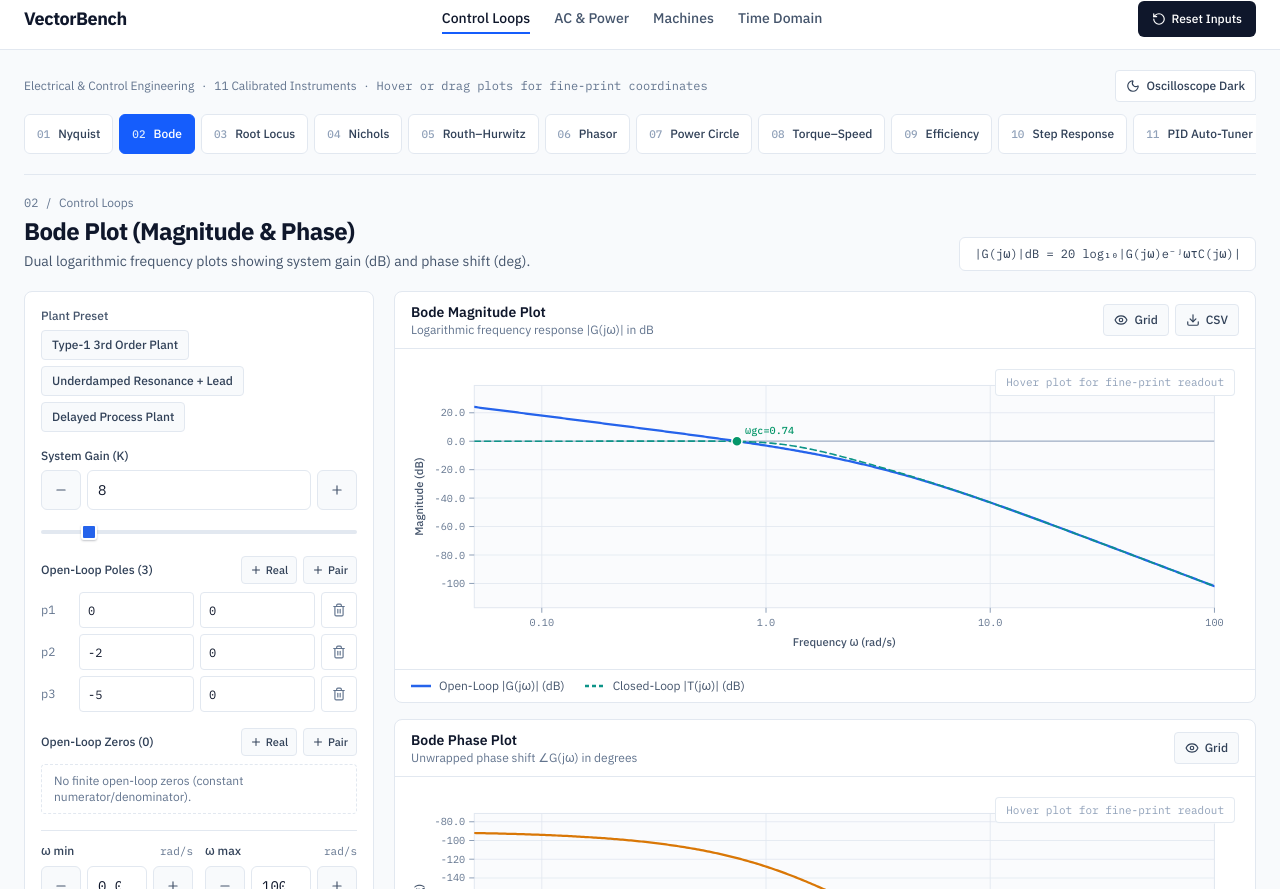
Test case: VectorBench Engineering Workbench Integration › renders all 10 instruments and switches cleanly between them (Blue Pill)
Expected: the link "VectorBench" is shown, x1=24 y1=5 x2=127 y2=33
# Switch to Step Response
Click the tab "10 Step Response" at {"x": 1063, "y": 134}, box x1=998 y1=114 x2=1127 y2=154
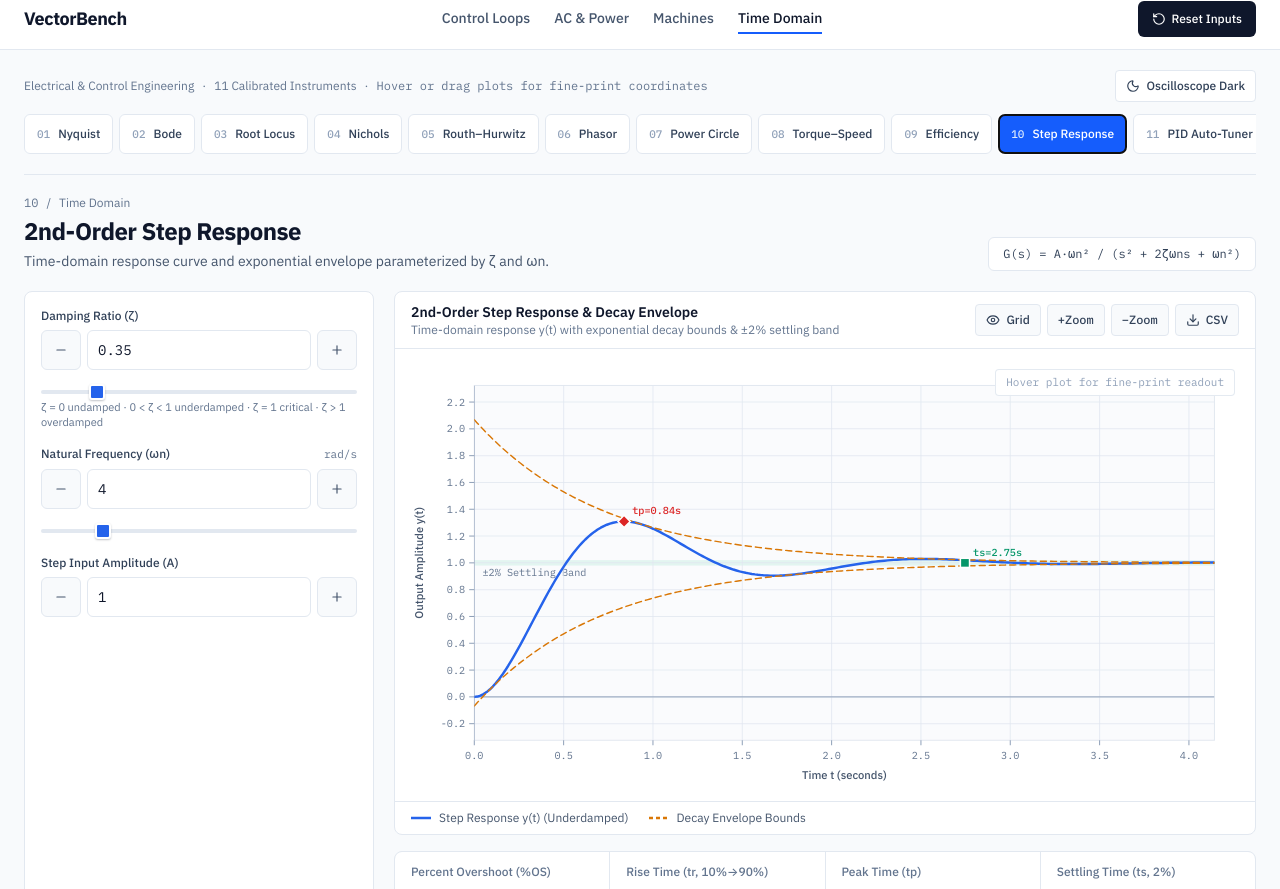
Now the heading "2nd-Order Step Response" is shown, box x1=24 y1=215 x2=301 y2=247
Now the text "Percent Overshoot (%OS)" is shown, box x1=411 y1=864 x2=551 y2=879
# Switch to Phasor Diagram via tab
Click the tab "06 Phasor" at {"x": 587, "y": 134}, box x1=545 y1=114 x2=630 y2=154
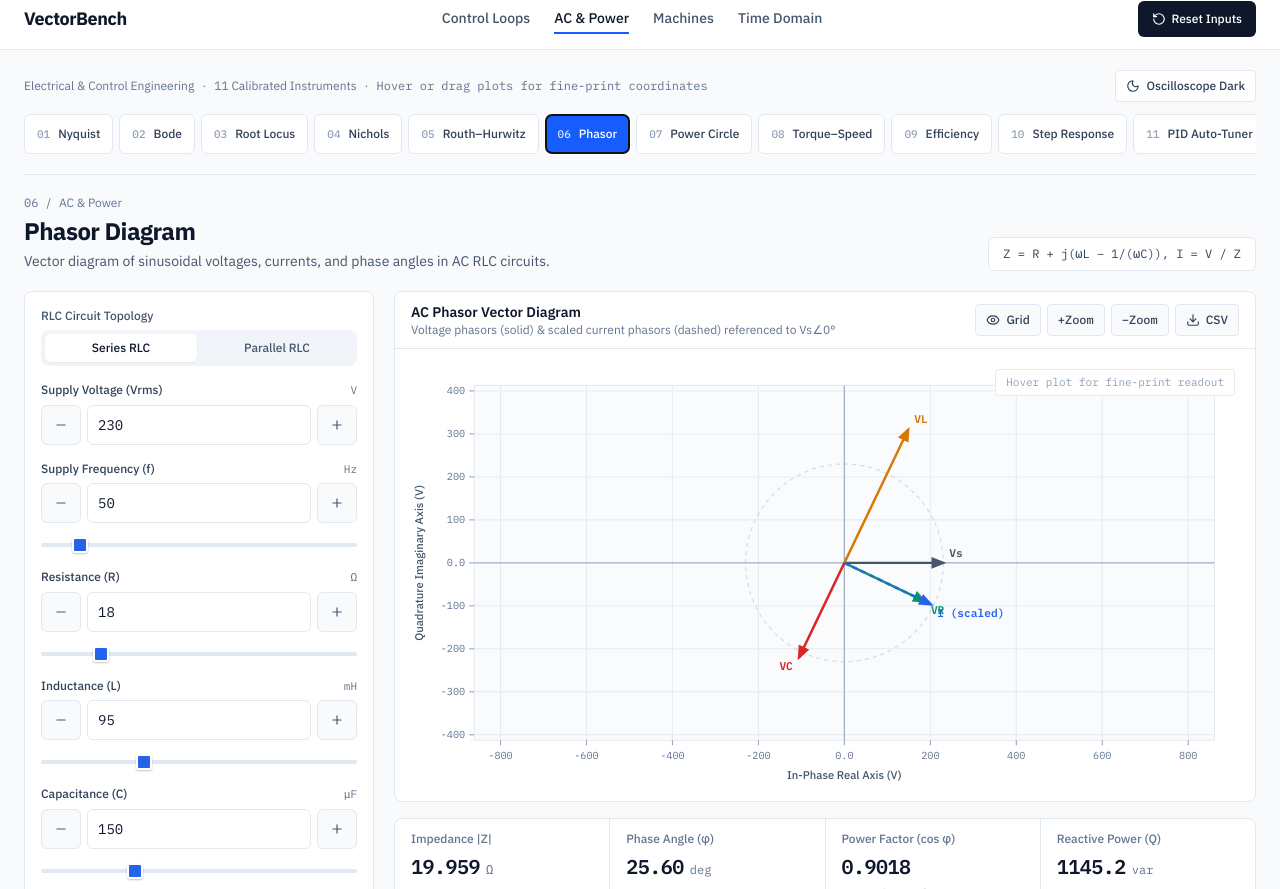
Now the heading "Phasor Diagram" is shown, box x1=24 y1=215 x2=195 y2=247
Now the text "Impedance |Z|" is shown, box x1=411 y1=831 x2=492 y2=846
# Switch to Routh-Hurwitz
Click the tab "05 Routh–Hurwitz" at {"x": 474, "y": 134}, box x1=408 y1=114 x2=539 y2=154
(page scrolled)
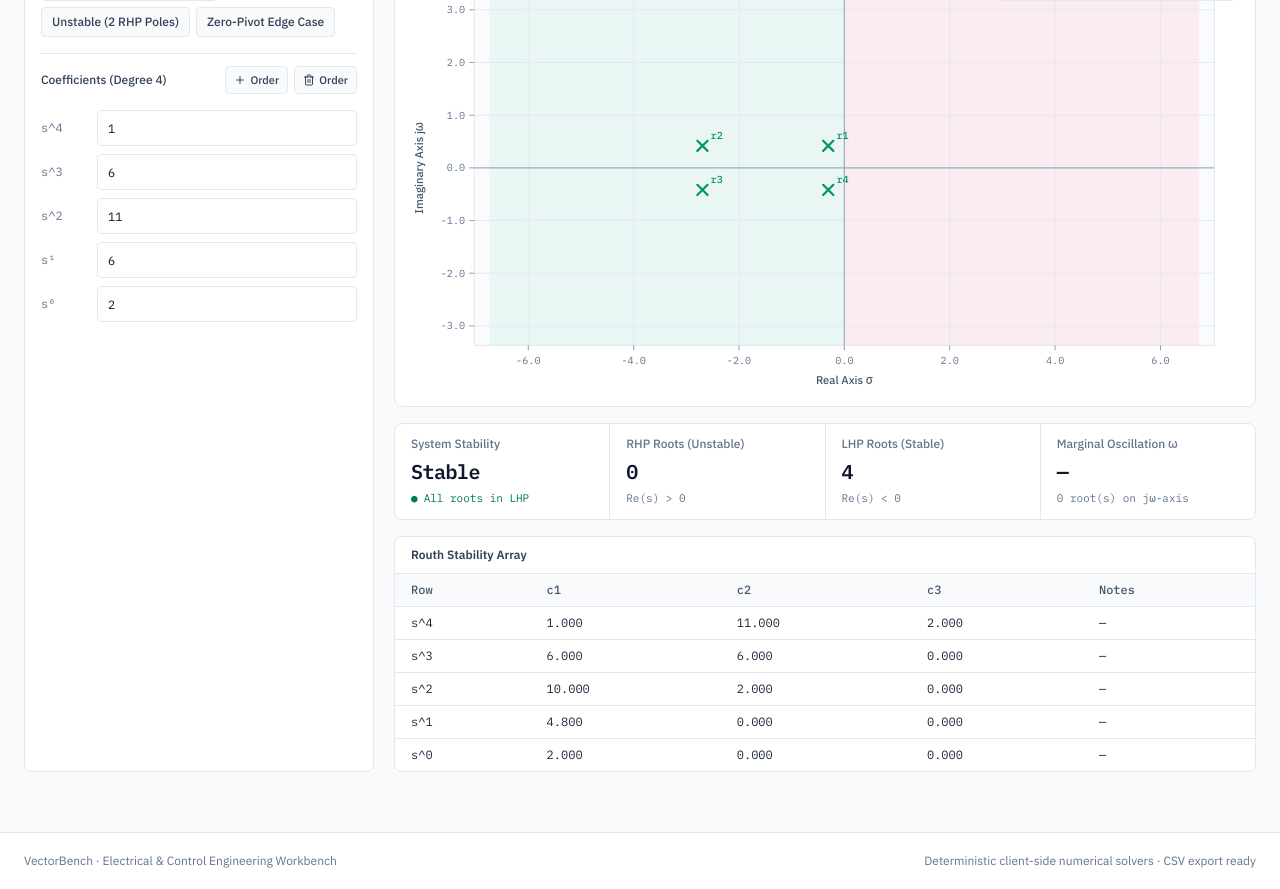
Now the heading "Routh Stability Array" is shown, box x1=411 y1=547 x2=527 y2=562
